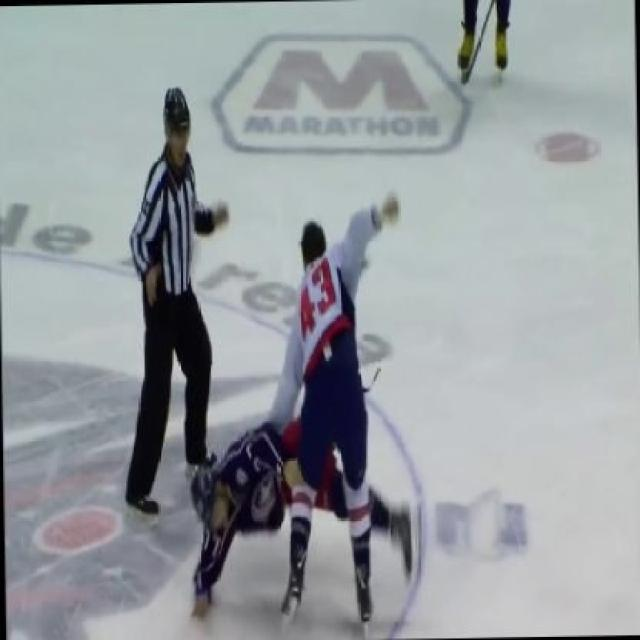fight: (182, 181, 416, 634)
non-fight: (127, 80, 223, 521)
